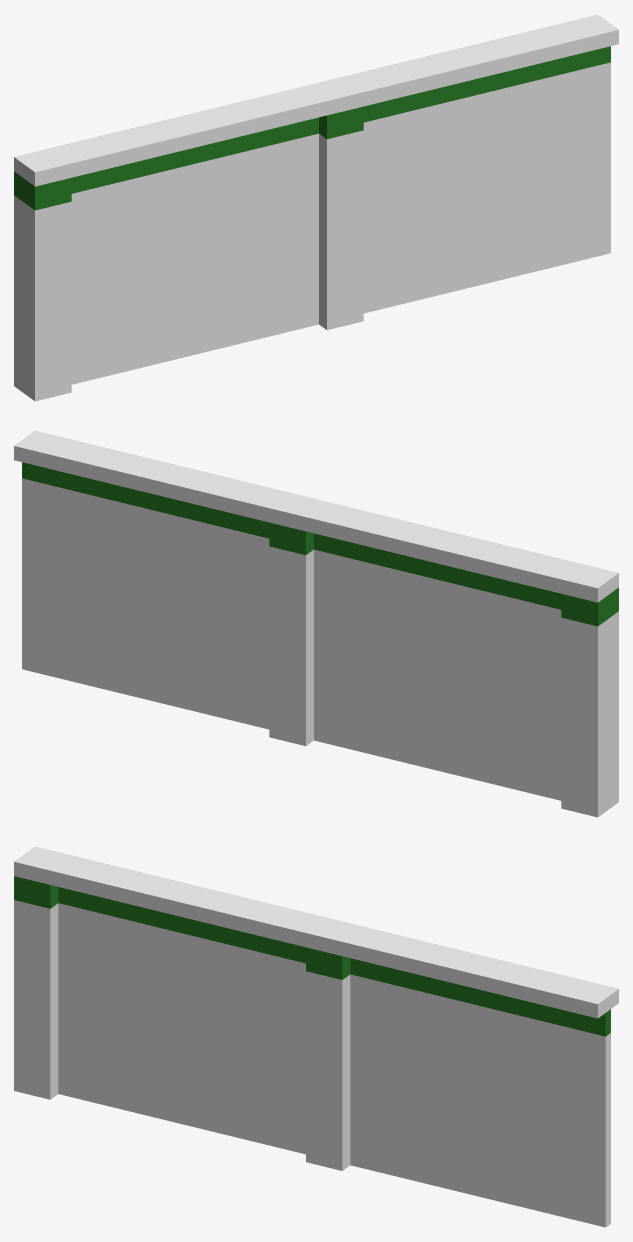
The model's file is penghubung_corridor_lantai_3.obj.
The picture shows the model from 3 angles, top to bottom: view 1: azimuth 30°, elevation 25°; view 2: azimuth 150°, elevation 25°; view 3: azimuth 330°, elevation 25°; orthographic projection.
Bounding box in the file's own units: 12.8 × 4.8 × 0.8.
Materials: 1 (1 with a texture image).
